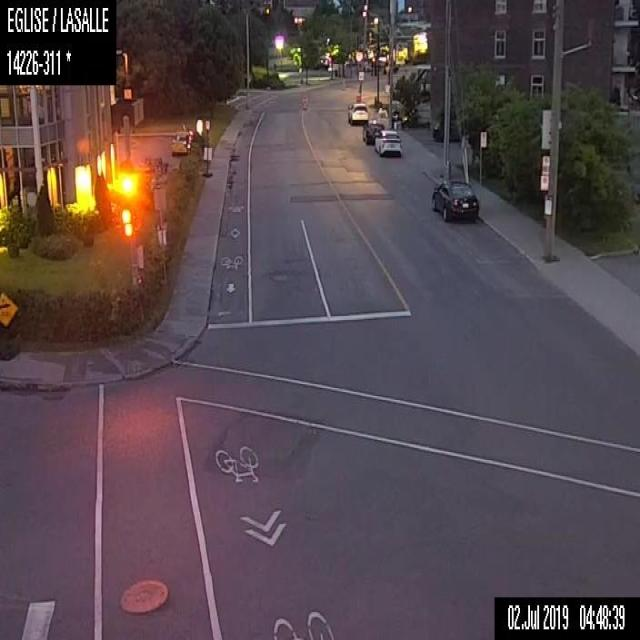vehicle: (431, 178, 478, 222), (374, 130, 400, 158), (171, 122, 189, 154), (346, 101, 369, 125), (362, 119, 384, 144)
